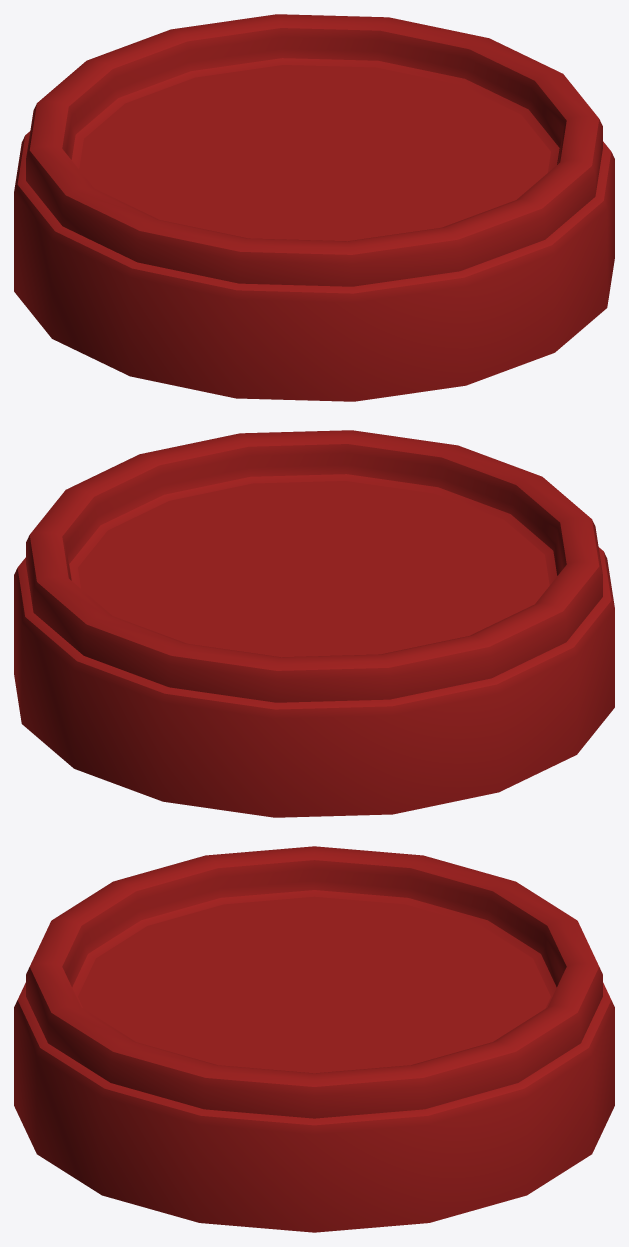
File: elev_button.fbx
The picture shows the model from 3 angles, top to bottom: view 1: azimuth 30°, elevation 25°; view 2: azimuth 150°, elevation 25°; view 3: azimuth 270°, elevation 25°; orthographic projection.
Visible parts, largest first — view 1: Cylinder; view 2: Cylinder; view 3: Cylinder.
Boxes of the visible parts, x1,y1,x2,y2 form: Cylinder: (14, 14, 614, 401); Cylinder: (14, 430, 614, 817); Cylinder: (14, 846, 614, 1232).
Bounding box in the file's own units: 200 × 52.2 × 200.
Materials: 1 (1 with a texture image).
